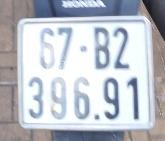1: (125, 75, 143, 124)
2: (113, 23, 132, 72)
3: (24, 72, 45, 120)
6: (70, 74, 92, 118), (36, 25, 57, 70)
7: (57, 25, 74, 73)
9: (98, 73, 123, 121), (48, 74, 69, 122)
B: (90, 21, 112, 70)
